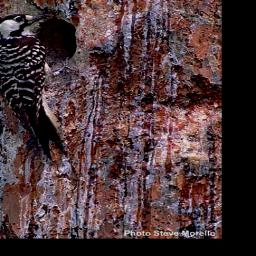Woodpecker: (0, 12, 65, 160)
